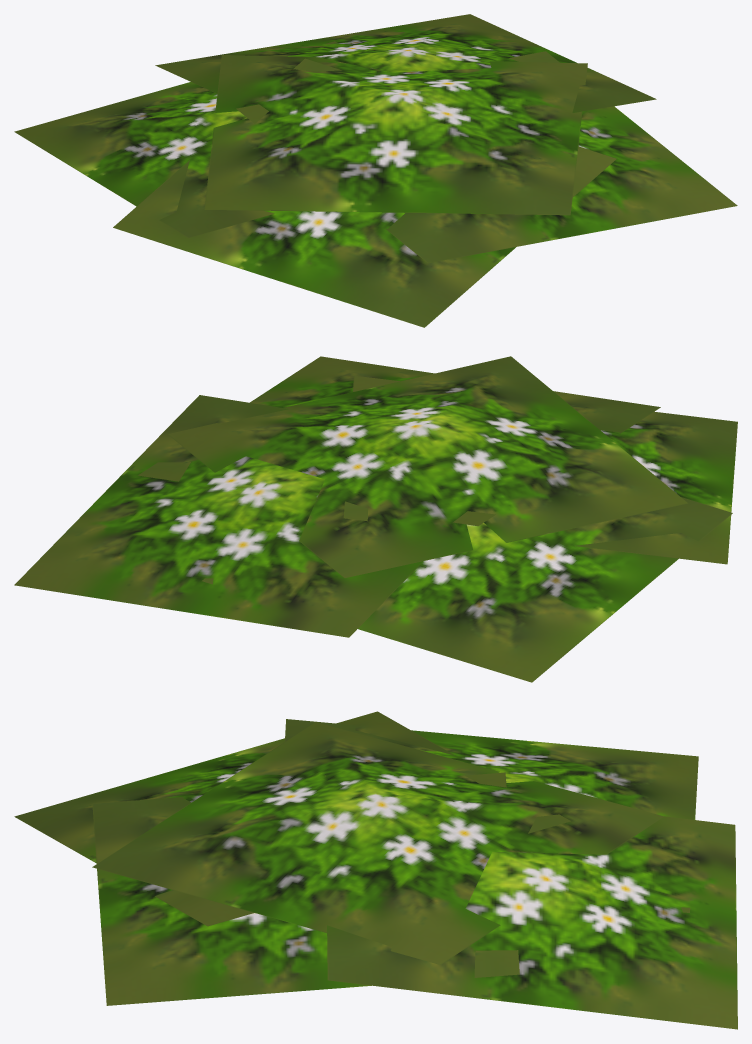
File: EP1_flower2.fbx
3 renders of one model, top to bottom at view 1: azimuth 30°, elevation 25°; view 2: azimuth 150°, elevation 25°; view 3: azimuth 270°, elevation 25°, orthographic. The views are drawn at different scales.
Parts seen in each view (by area): view 1: group8; view 2: group8; view 3: group8.
Part boxes in pixels (left/top/right/bottom): group8: left=14, top=14, right=737, bottom=327; group8: left=14, top=356, right=737, bottom=682; group8: left=14, top=711, right=737, bottom=1029.
Size of the model in its own units: 1.62 by 0.2731 by 1.72.
